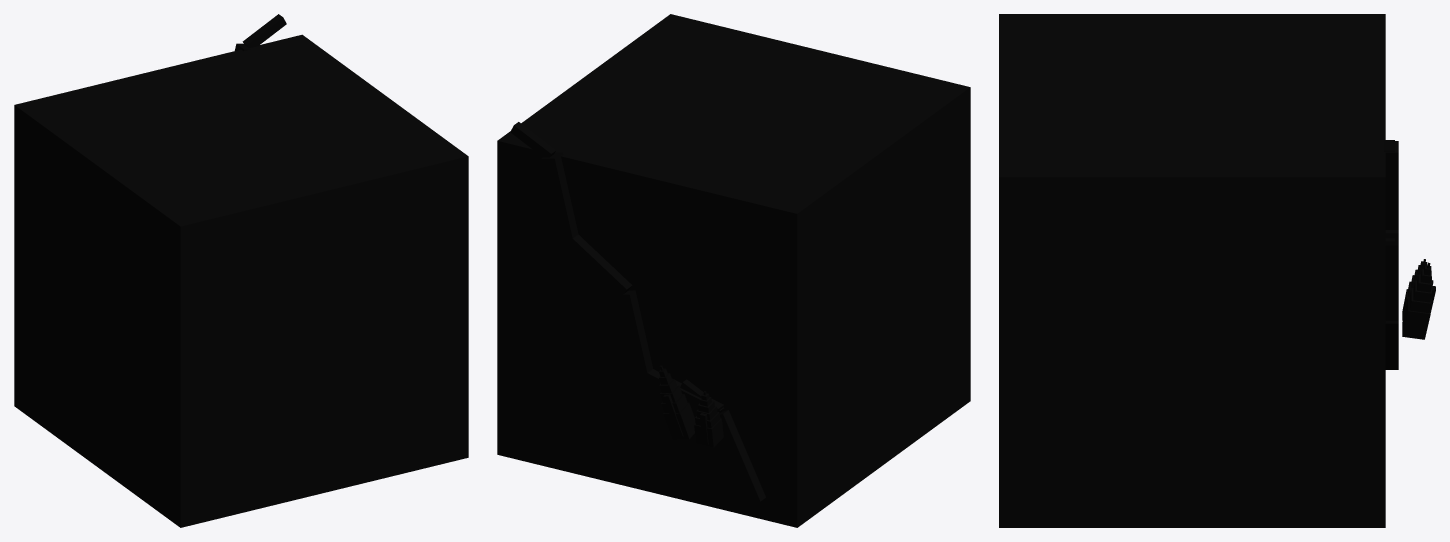
The model's file is lab_tile_light_eroded.obj.
3 renders of one model, left to right at view 1: azimuth 30°, elevation 25°; view 2: azimuth 150°, elevation 25°; view 3: azimuth 270°, elevation 25°, orthographic. The views are drawn at different scales.
Size of the model in its own units: 1 by 1.08 by 1.13.
